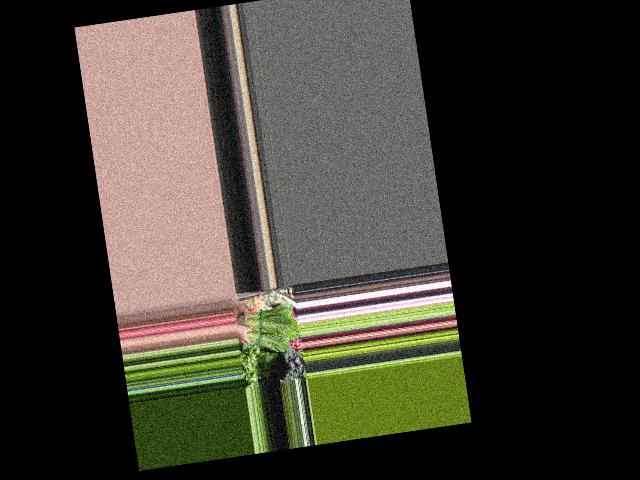lettuce: (233, 303, 298, 358)
